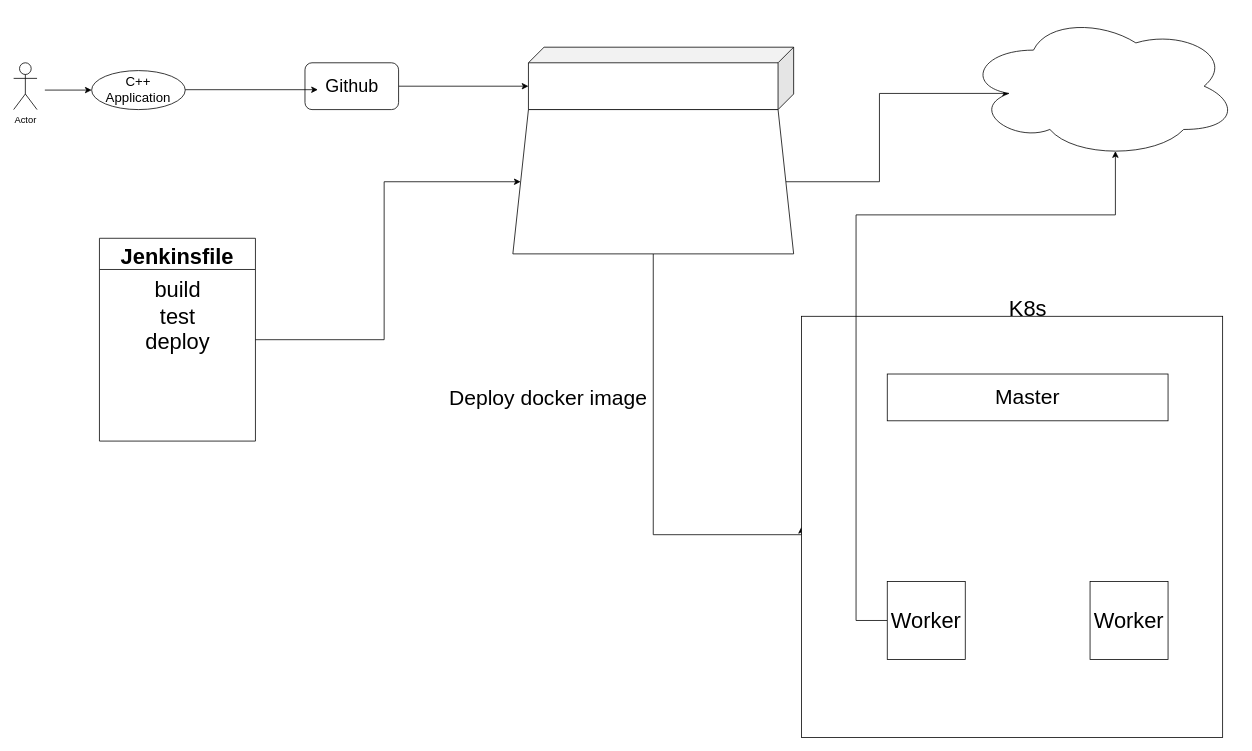
The diagram is 1252 pixels wide and 751 high, and some of its shapes have lost their labels. Each missing label, with the box of its shape:
1.packaging .deb 2.build image to install and run deb 3.push image: (512, 109, 794, 254)
Jenkins: (528, 46, 794, 110)
Local registry or DockerHub: (964, 13, 1238, 158)
